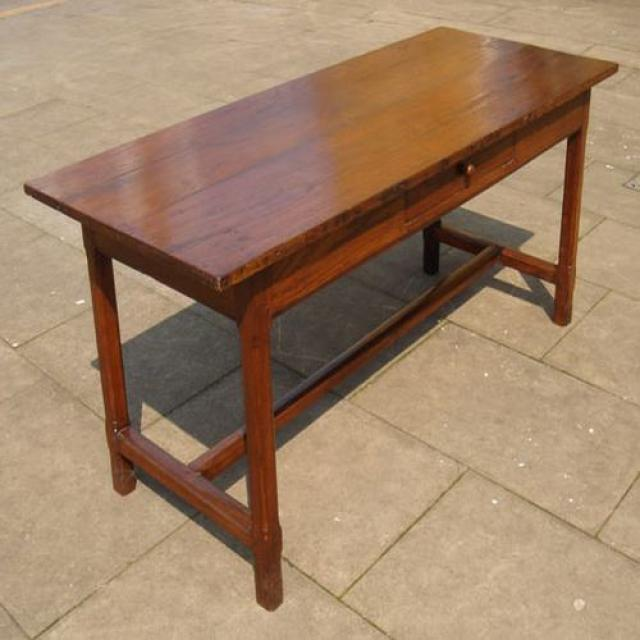table: (24, 27, 620, 613)
